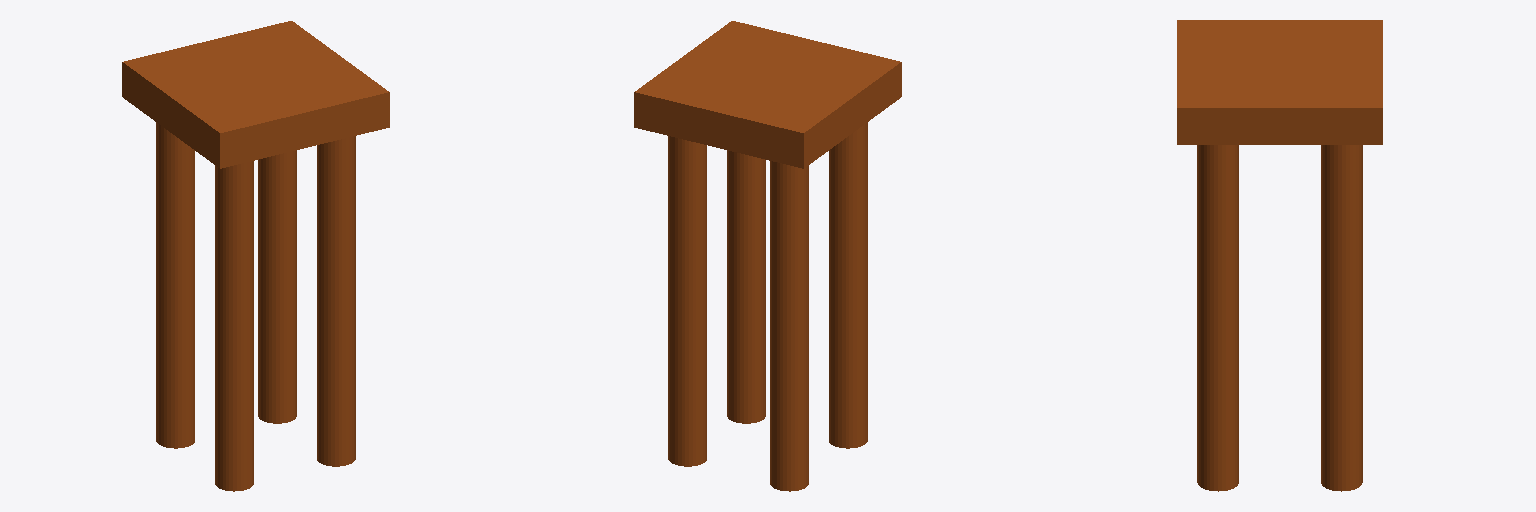
robot.urdf — stool:
<?xml version="1.0"?>
<robot name="stool">
    <!-- Colors -->
    <material name="red">
        <color rgba="0.655 0.358 0.149 1"/>
    </material>

    <!-- stool -->
    <link name="cylinder_1">
        <visual>
            <geometry>
                <cylinder length="0.4" radius="0.02"/>
                <origin rpy="0 0 0" xyz="0 0 0"/>
            </geometry>
            <material name="red"/>
        </visual>
        <collision>
             <geometry>
                <cylinder length="0.4" radius="0.02"/>
                <origin rpy="0 0 0" xyz="0 0 0"/>
            </geometry>
        </collision>
        <inertial>
            <mass value="0"/>
            <inertia ixx="0" ixy="0" ixz="0" iyy="0" iyz="0" izz="0"/>
        </inertial>
    </link>

    <link name="cylinder_2">
        <visual>
            <geometry>
                <cylinder length="0.4" radius="0.02"/>
                <origin rpy="0 0 0" xyz="0 0 0"/>
            </geometry>
            <material name="red"/>
        </visual>
        <collision>
             <geometry>
                <cylinder length="0.4" radius="0.02"/>
                <origin rpy="0 0 0" xyz="0 0 0"/>
            </geometry>
        </collision>
        <inertial>
            <mass value="0"/>
            <inertia ixx="0" ixy="0" ixz="0" iyy="0" iyz="0" izz="0"/>
        </inertial>
    </link>

    <link name="cylinder_3">
        <visual>
            <geometry>
                <cylinder length="0.4" radius="0.02"/>
                <origin rpy="0 0 0" xyz="0 0 0"/>
            </geometry>
            <material name="red"/>
        </visual>
        <collision>
             <geometry>
                <cylinder length="0.4" radius="0.02"/>
                <origin rpy="0 0 0" xyz="0 0 0"/>
            </geometry>
        </collision>
        <inertial>
            <mass value="0"/>
            <inertia ixx="0" ixy="0" ixz="0" iyy="0" iyz="0" izz="0"/>
        </inertial>
    </link>


    <link name="cylinder_4">
        <visual>
            <geometry>
                <cylinder length="0.4" radius="0.02"/>
                <origin rpy="0 0 0" xyz="0 0 0"/>
            </geometry>
            <material name="red"/>
        </visual>
        <collision>
             <geometry>
                <cylinder length="0.4" radius="0.02"/>
                <origin rpy="0 0 0" xyz="0 0 0"/>
            </geometry>
        </collision>
        <inertial>
            <mass value="0"/>
            <inertia ixx="0" ixy="0" ixz="0" iyy="0" iyz="0" izz="0"/>
        </inertial>
    </link>

    <link name="seat">
        <visual>
            <geometry>
                <box size="0.2 0.2 0.04" />
                <origin rpy="0 0 0" xyz="0 0 0"/>
            </geometry>
            <material name="red"/>
        </visual>
        <collision>
             <geometry>
                <box size="0.2 0.2 0.04" />
                <origin rpy="0 0 0" xyz="0 0 0"/>
            </geometry>
        </collision>
        <inertial>
            <mass value="0"/>
            <inertia ixx="0" ixy="0" ixz="0" iyy="0" iyz="0" izz="0"/>
        </inertial>
    </link>

    <joint name="cylinder_1_to_seat" type="fixed">
      <parent link="seat"/>
      <child link="cylinder_1"/>
      <origin xyz="0.06 -0.06 -0.2"/>
    </joint>

    <joint name="cylinder_2_to_seat" type="fixed">
      <parent link="seat"/>
      <child link="cylinder_2"/>
      <origin xyz="0.06 0.06 -0.2"/>
    </joint>

    <joint name="cylinder_3_to_seat" type="fixed">
      <parent link="seat"/>
      <child link="cylinder_3"/>
      <origin xyz="-0.06 0.06 -0.2"/>
    </joint>

    <joint name="cylinder_4_to_seat" type="fixed">
      <parent link="seat"/>
      <child link="cylinder_4"/>
      <origin xyz="-0.06 -0.06 -0.2"/>
    </joint>

</robot>

--- Render facts (derived) ---
Views: 3 orthographic renders of the robot side by side, from view 1: azimuth 30°, elevation 25°; view 2: azimuth 150°, elevation 25°; view 3: azimuth 270°, elevation 25°.
Robot: stool — 5 links, 4 joints (4 fixed); root link seat; default pose: every joint at zero.
Links seen in each view (by area): view 1: seat, cylinder_4, cylinder_1, cylinder_3, cylinder_2; view 2: seat, cylinder_3, cylinder_2, cylinder_4, cylinder_1; view 3: seat, cylinder_1, cylinder_2.
Boxes of the visible links, <box> form: seat: <box>122,21,389,168</box>; cylinder_4: <box>215,161,253,491</box>; cylinder_1: <box>317,136,355,466</box>; cylinder_3: <box>156,122,194,448</box>; cylinder_2: <box>258,150,296,423</box>; seat: <box>634,21,901,168</box>; cylinder_3: <box>770,161,808,491</box>; cylinder_2: <box>668,136,706,466</box>; cylinder_4: <box>829,122,867,448</box>; cylinder_1: <box>727,150,765,423</box>; seat: <box>1177,20,1382,144</box>; cylinder_1: <box>1197,145,1238,491</box>; cylinder_2: <box>1321,145,1362,491</box>.
Bounding box of the posed robot: 0.2 × 0.2 × 0.42 m (x, y, z).
Geometry: primitives only (box / cylinder / sphere), no mesh files.